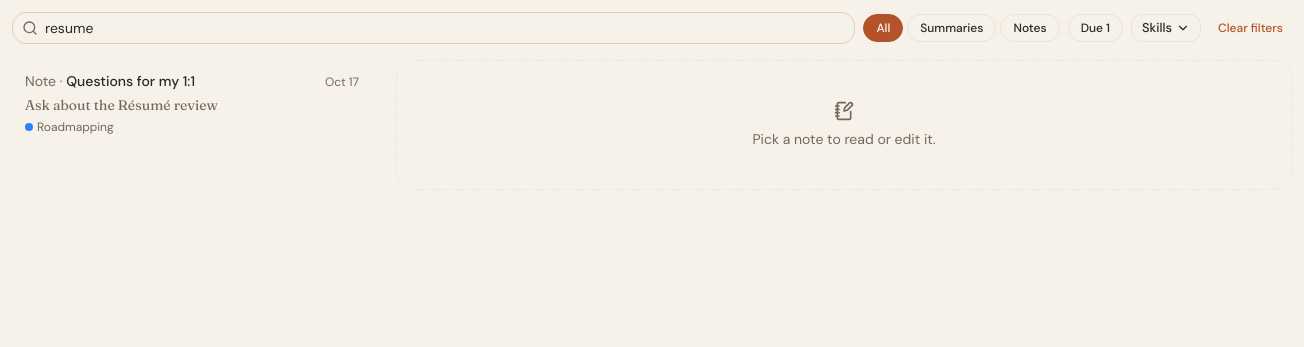
Test case: NotebookView › searches titles, material titles and bodies, ignoring accents, and offers Clear filters when nothing matches
Expected: the number of options is 1, [12,60,372,146]
Expected: the option shows "Questions for my 1:1", [12,60,372,146]
Replace the text in the search field named "Search notes" with "zzz" at (434, 28), box [12,12,855,44]
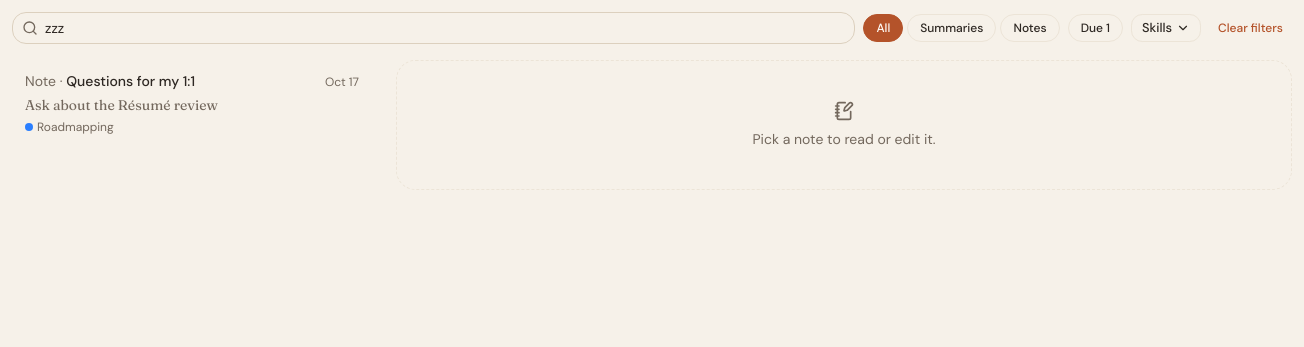
Press Enter in the search field named "Search notes", box [12,12,855,44]
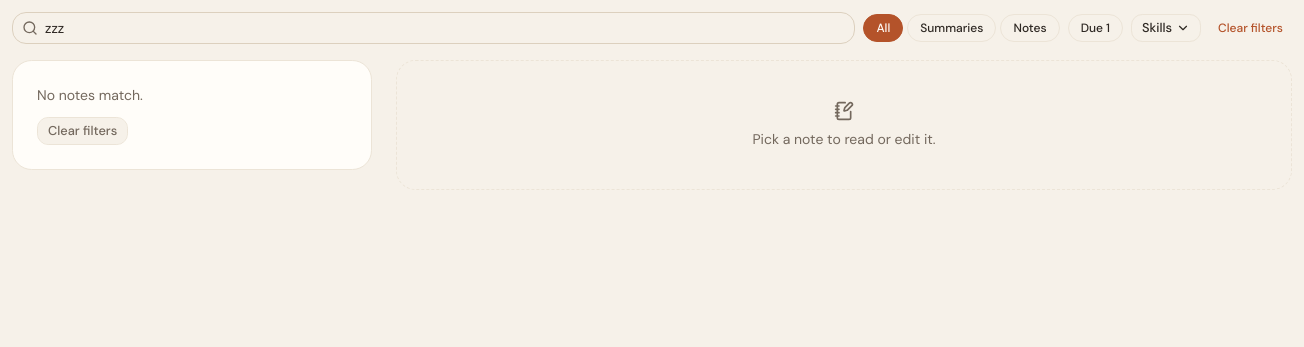
Now the text "No notes match." is shown, box [37,85,143,105]
Click the 1st button "Clear filters".
click(1250, 28)  # box [1209,16,1292,40]
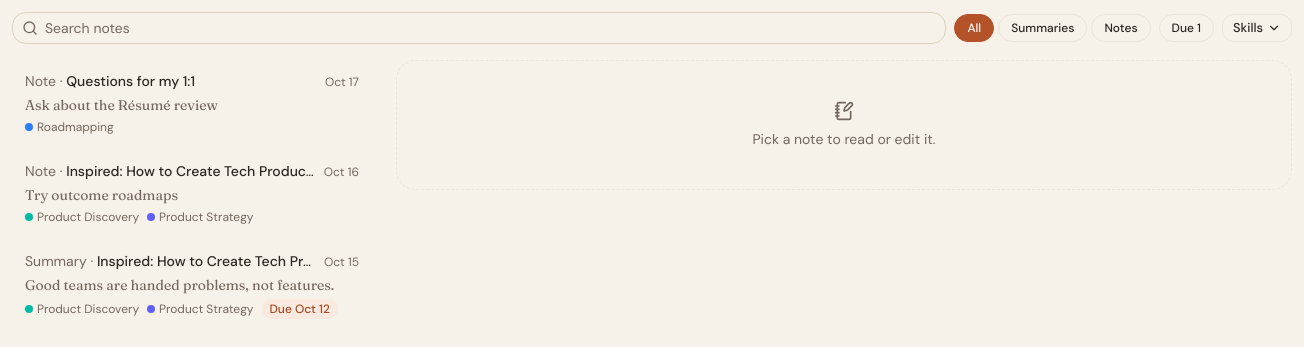
Now the number of options is 3, box [12,60,372,146]; [12,150,372,236]; [12,240,372,330]
